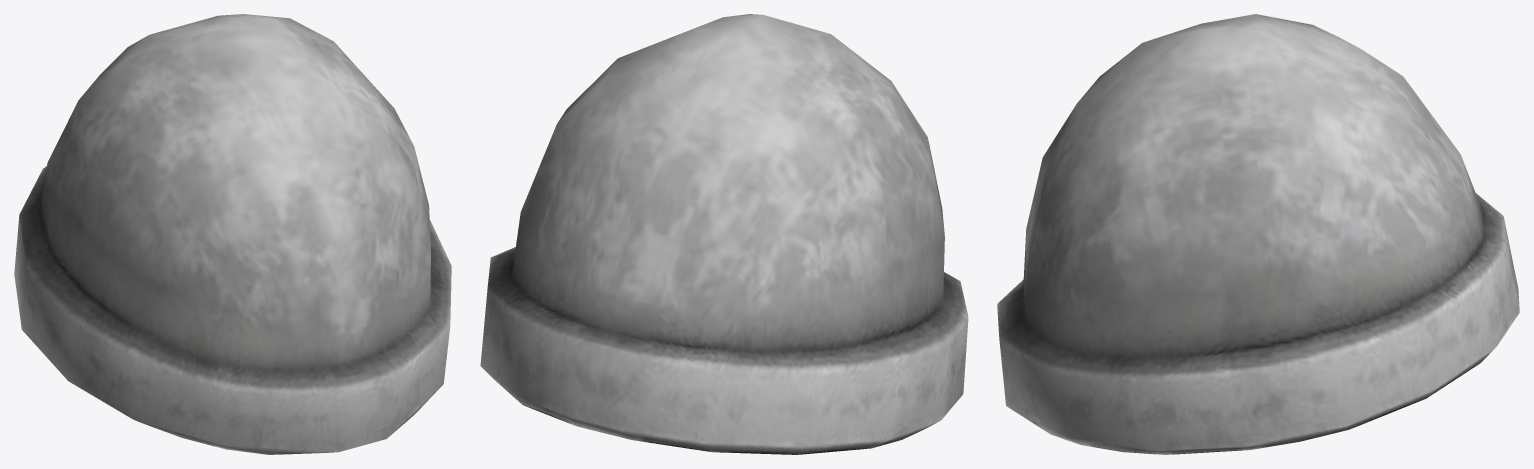
Rendered from helm-mediuminfantry.glb.
3 renders of one model, left to right at view 1: azimuth 30°, elevation 25°; view 2: azimuth 150°, elevation 25°; view 3: azimuth 270°, elevation 25°, orthographic. The views are drawn at different scales.
Bounding box in the file's own units: 0.2431 × 0.2206 × 0.283.
Materials: 1 (1 with a texture image).
